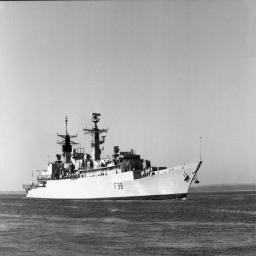Fragata: (21, 105, 205, 202)
